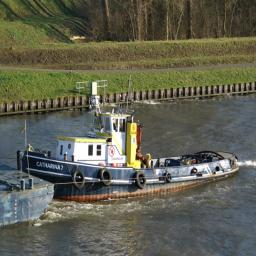tugboat: (17, 94, 242, 215)
